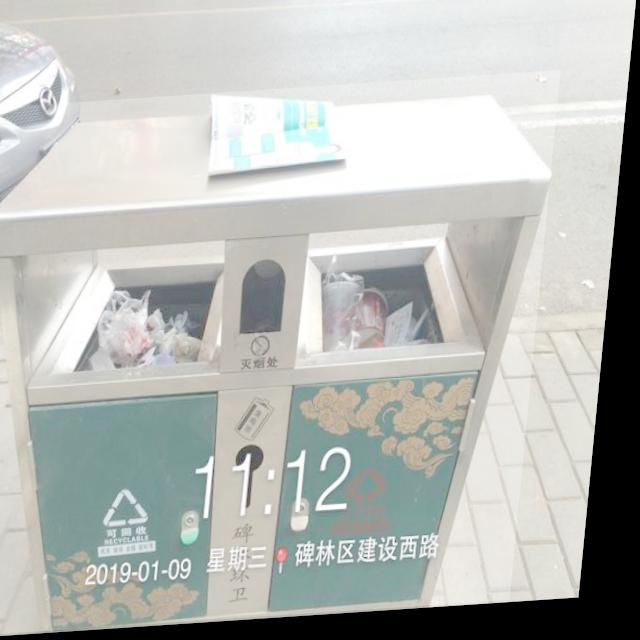overflow: (0, 78, 563, 638)
